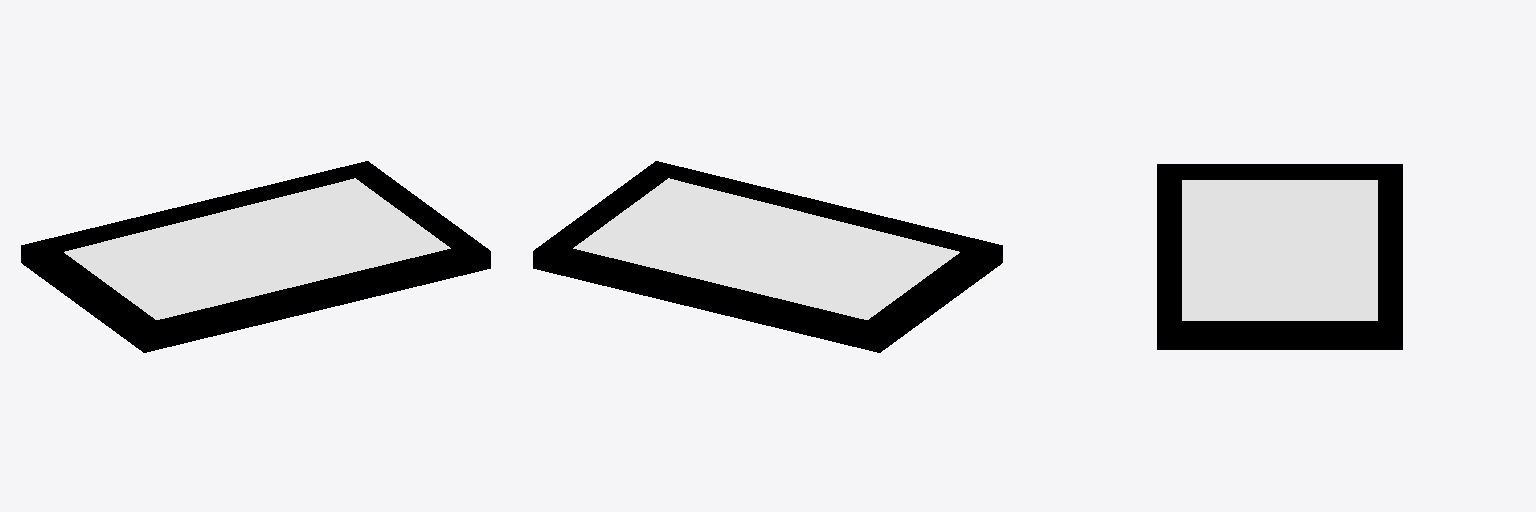
Rendered from pic1.obj.
3 renders of one model, left to right at view 1: azimuth 30°, elevation 25°; view 2: azimuth 150°, elevation 25°; view 3: azimuth 270°, elevation 25°, orthographic.
Parts seen in each view (by area): view 1: pCube2; view 2: pCube2; view 3: pCube2.
Boxes of the visible parts, box(x1,y1,x2,y2) form: pCube2: box(21, 161, 490, 352); pCube2: box(533, 161, 1002, 352); pCube2: box(1157, 164, 1402, 349).
Size of the model in its own units: 6.07 by 0.3231 by 3.74.